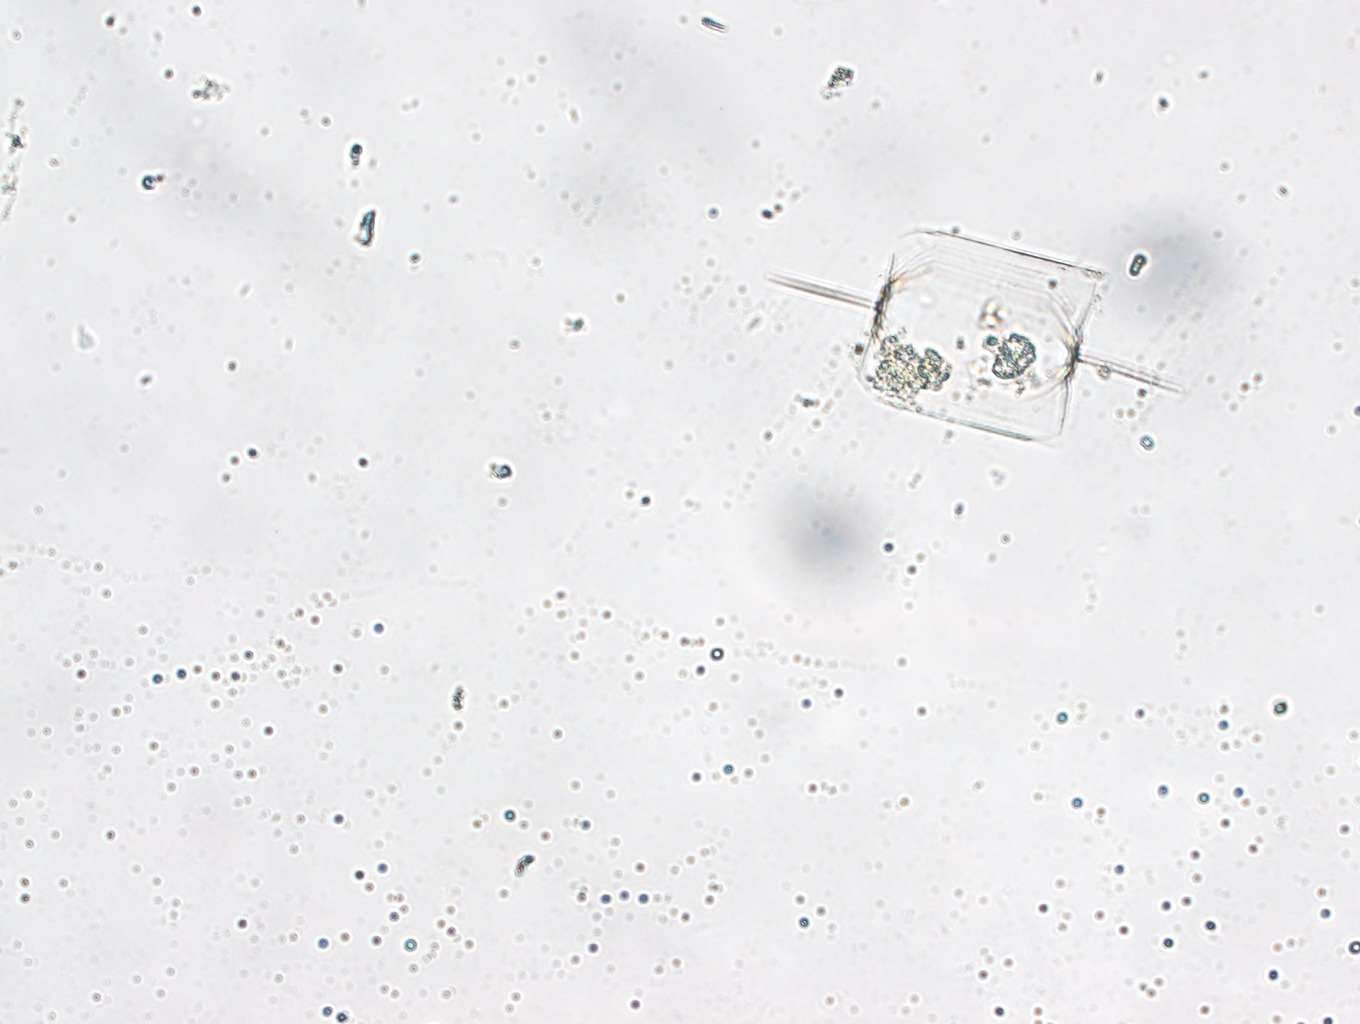ditylum: (764, 230, 1186, 445)
